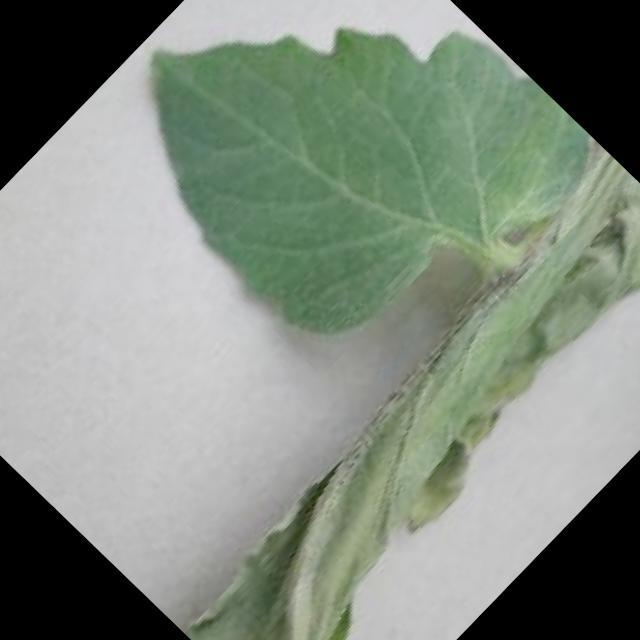Tomato healthy leaf: (76, 0, 613, 412)
Tomato late blight leaf: (170, 160, 640, 640)
